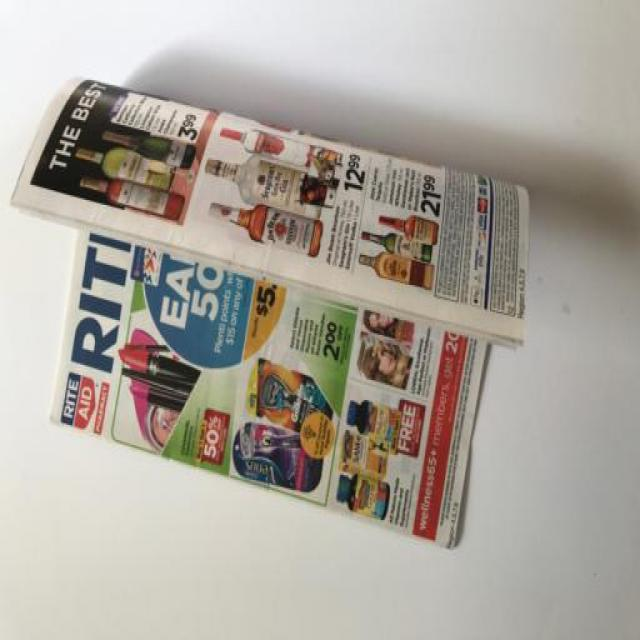paper: (12, 77, 530, 565)
